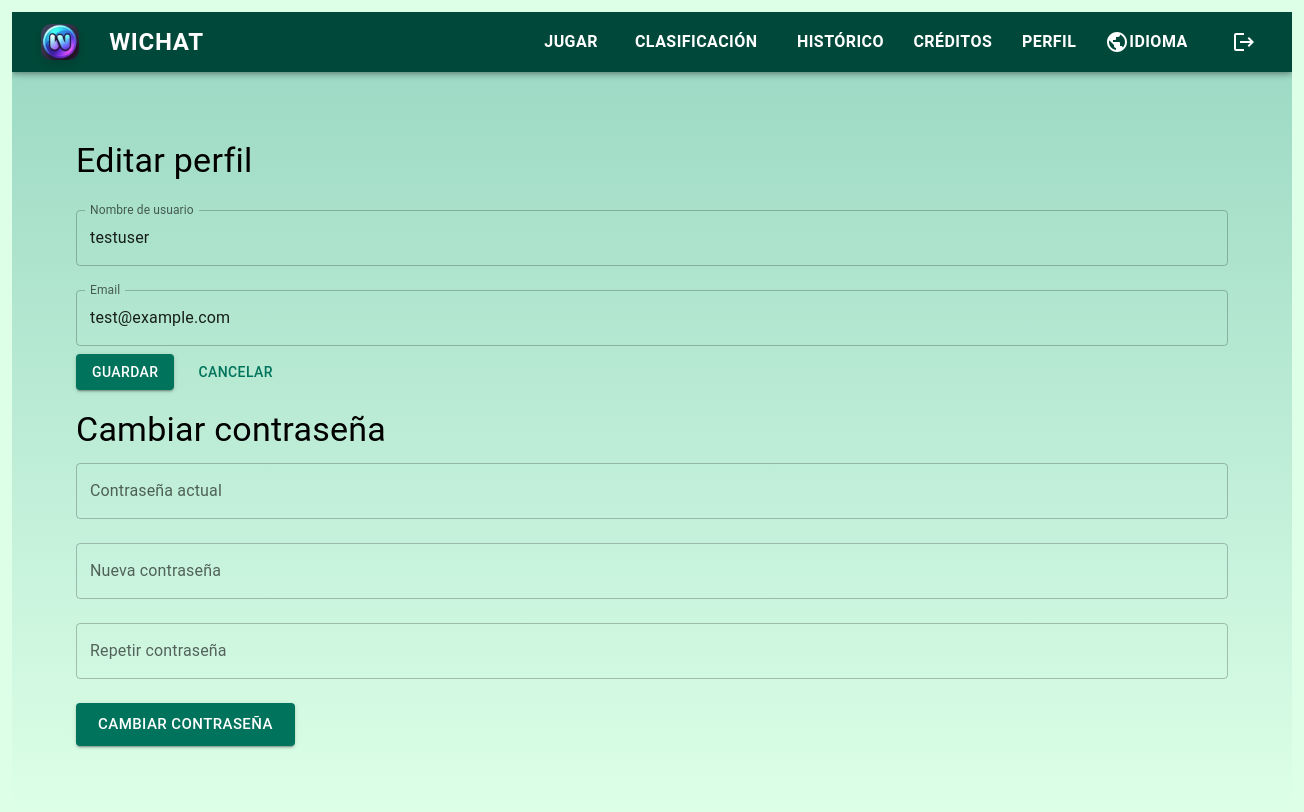
it: EditProfile Component › displays error message if username is already taken on save
Click the button with test id "save-button" at {"x": 125, "y": 372}, box [76,354,174,390]
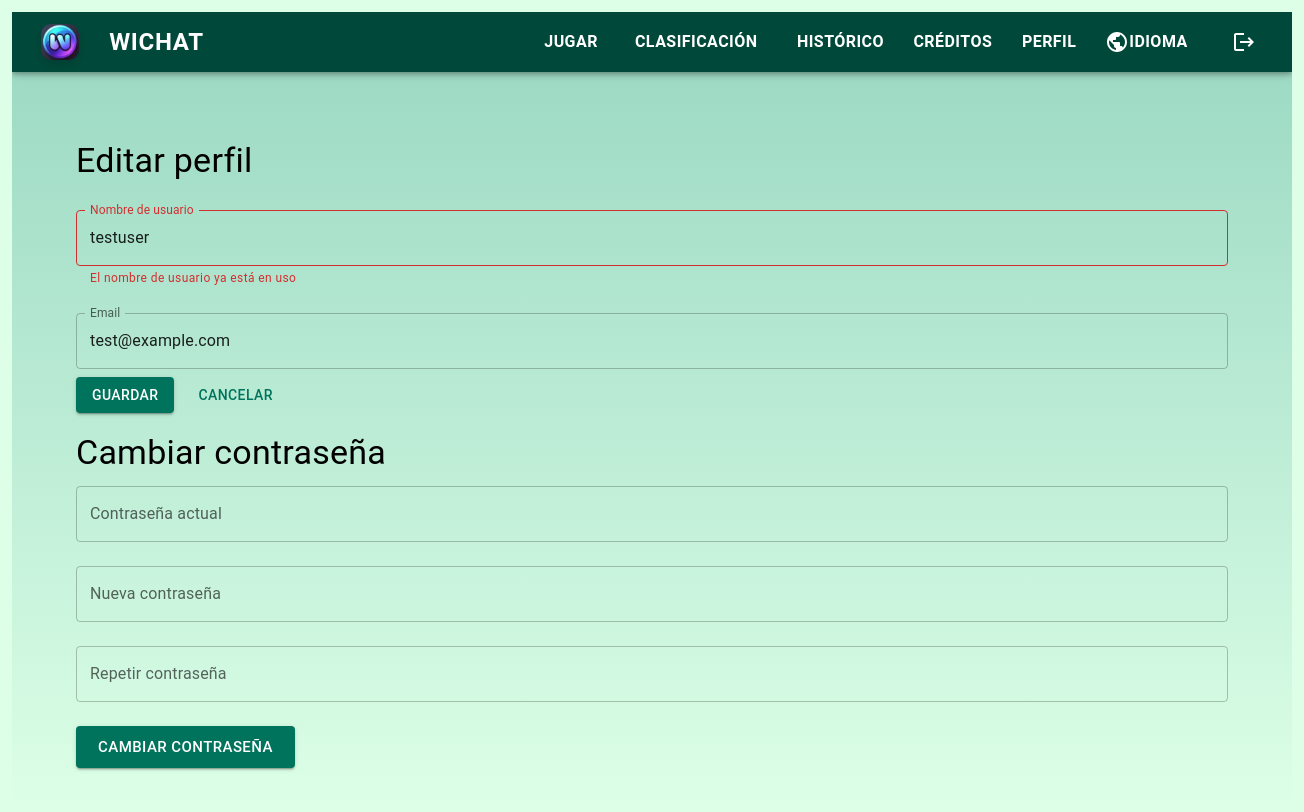
expect the text "El nombre de usuario ya está en uso" is shown: met, box [90,271,296,285]
